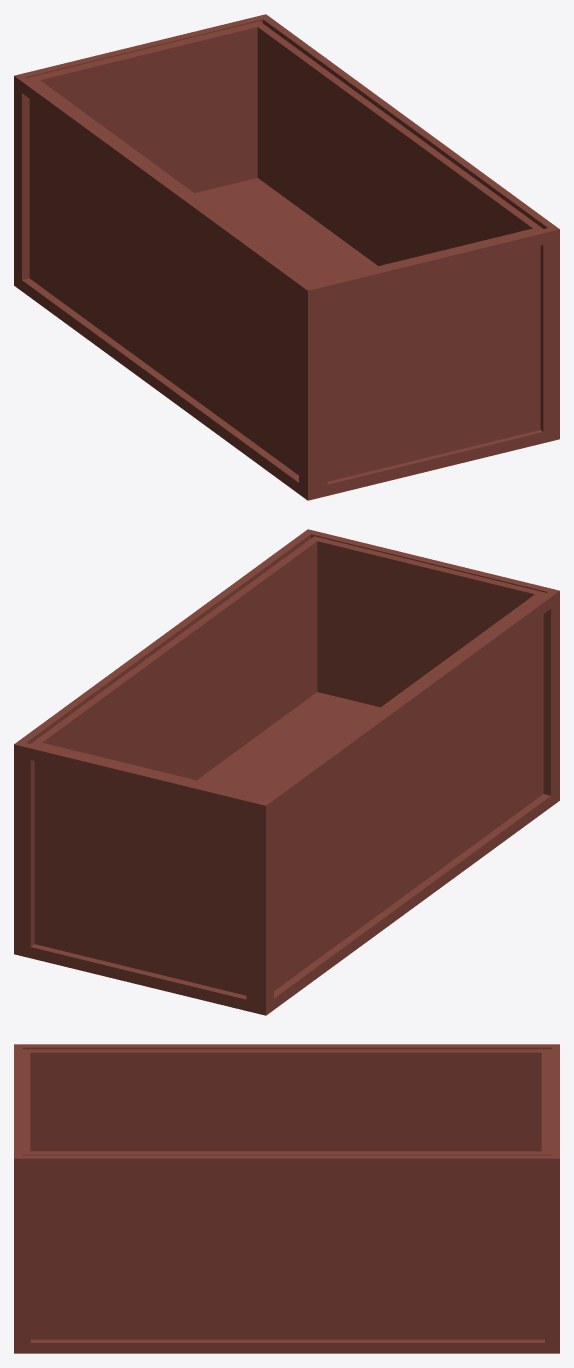
The model's file is Chest_Small_Base.fbx.
The picture shows the model from 3 angles, top to bottom: view 1: azimuth 30°, elevation 25°; view 2: azimuth 150°, elevation 25°; view 3: azimuth 270°, elevation 25°; orthographic projection. The views are drawn at different scales.
Parts seen in each view (by area): view 1: Chest_Small_Base; view 2: Chest_Small_Base; view 3: Chest_Small_Base.
Boxes of the visible parts, x1,y1,x2,y2 form: Chest_Small_Base: [14, 14, 559, 500]; Chest_Small_Base: [14, 529, 559, 1015]; Chest_Small_Base: [14, 1044, 559, 1353].
Size of the model in its own units: 18.23 by 14.51 by 36.83.
